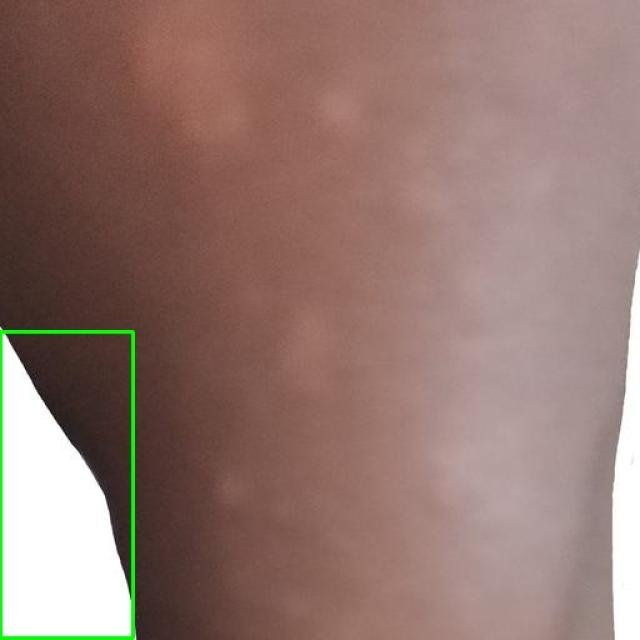Tinea Corporis: (0, 332, 134, 639)
